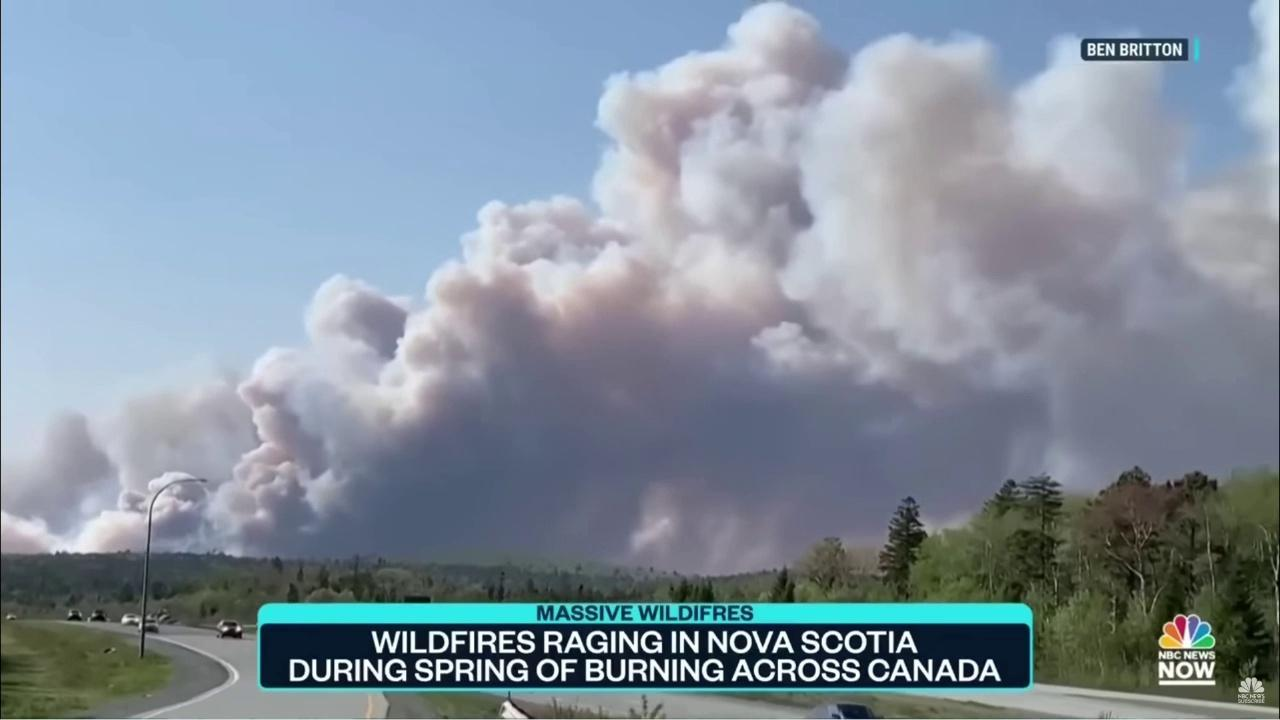smoke: (0, 0, 1280, 578)
